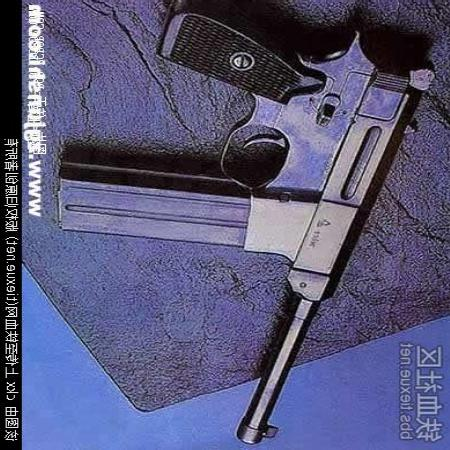Pistol: (164, 13, 436, 445)
